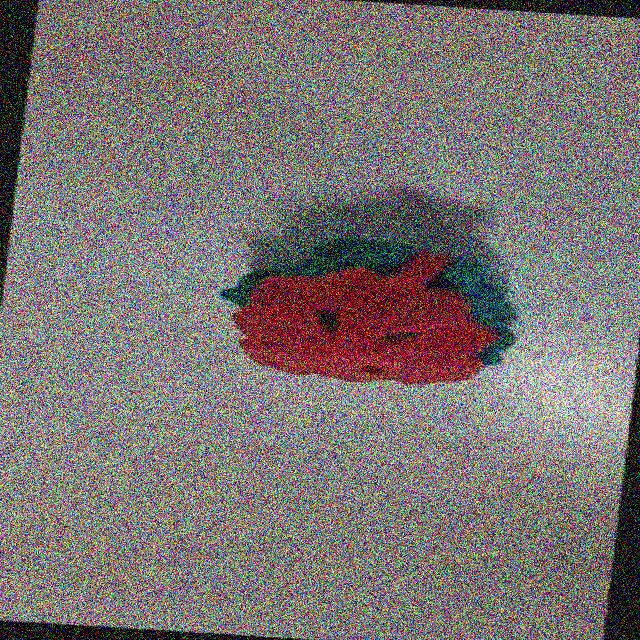House: (207, 221, 542, 406)
